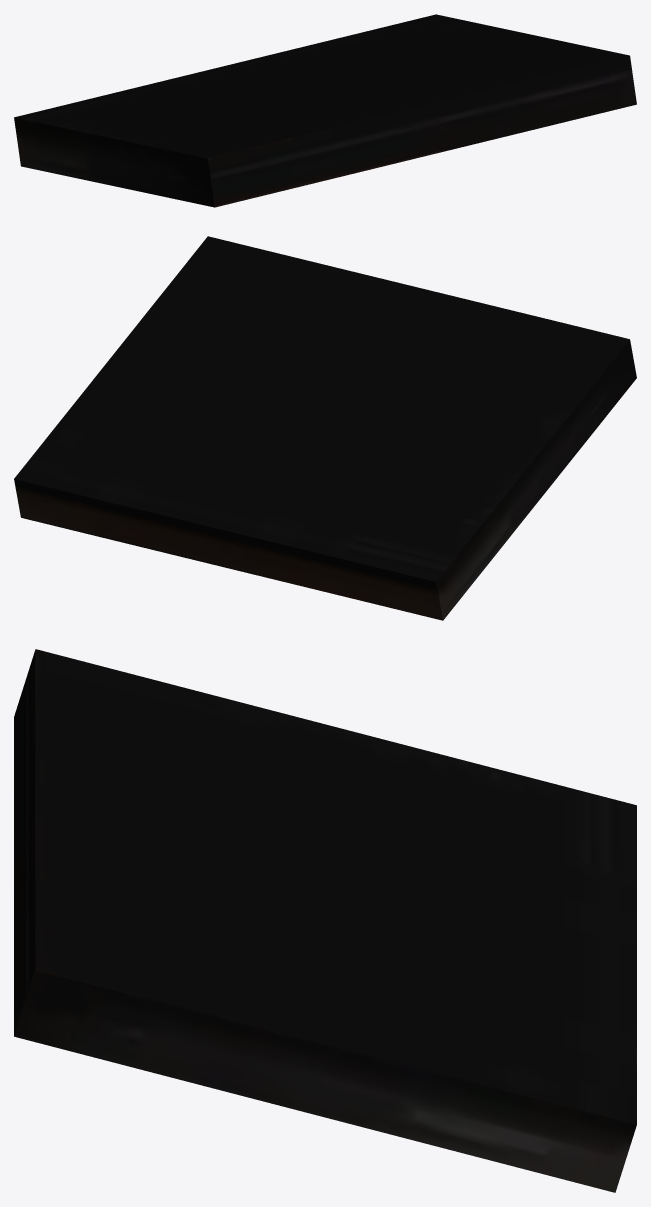
Rendered from body__monitor_mount.glb.
The picture shows the model from 3 angles, top to bottom: view 1: azimuth 30°, elevation 25°; view 2: azimuth 150°, elevation 25°; view 3: azimuth 270°, elevation 25°; orthographic projection. The views are drawn at different scales.
Parts seen in each view (by area): view 1: geometry_0; view 2: geometry_0; view 3: geometry_0.
Boxes of the visible parts, bbox=[...] form: geometry_0: bbox=[14, 14, 636, 207]; geometry_0: bbox=[14, 236, 636, 620]; geometry_0: bbox=[14, 649, 636, 1192].
Size of the model in its own units: 0.58 by 0.19 by 0.4779.
1 material, 1 textured.
